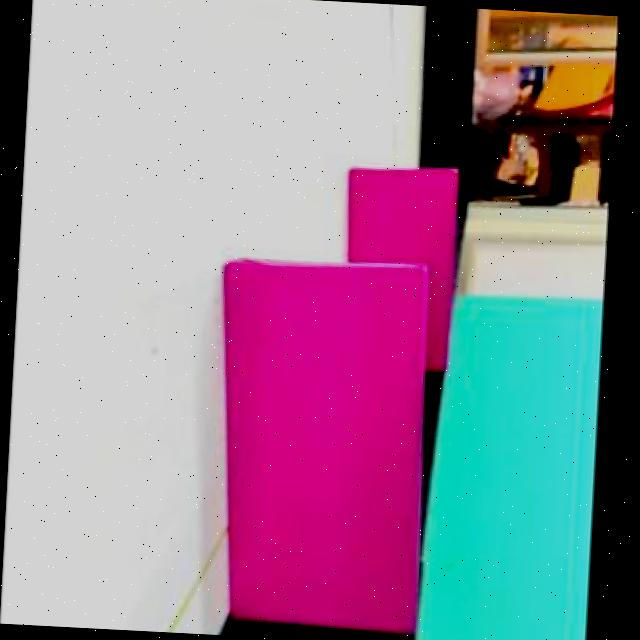xparking: (202, 266, 424, 624), (344, 166, 456, 264)
